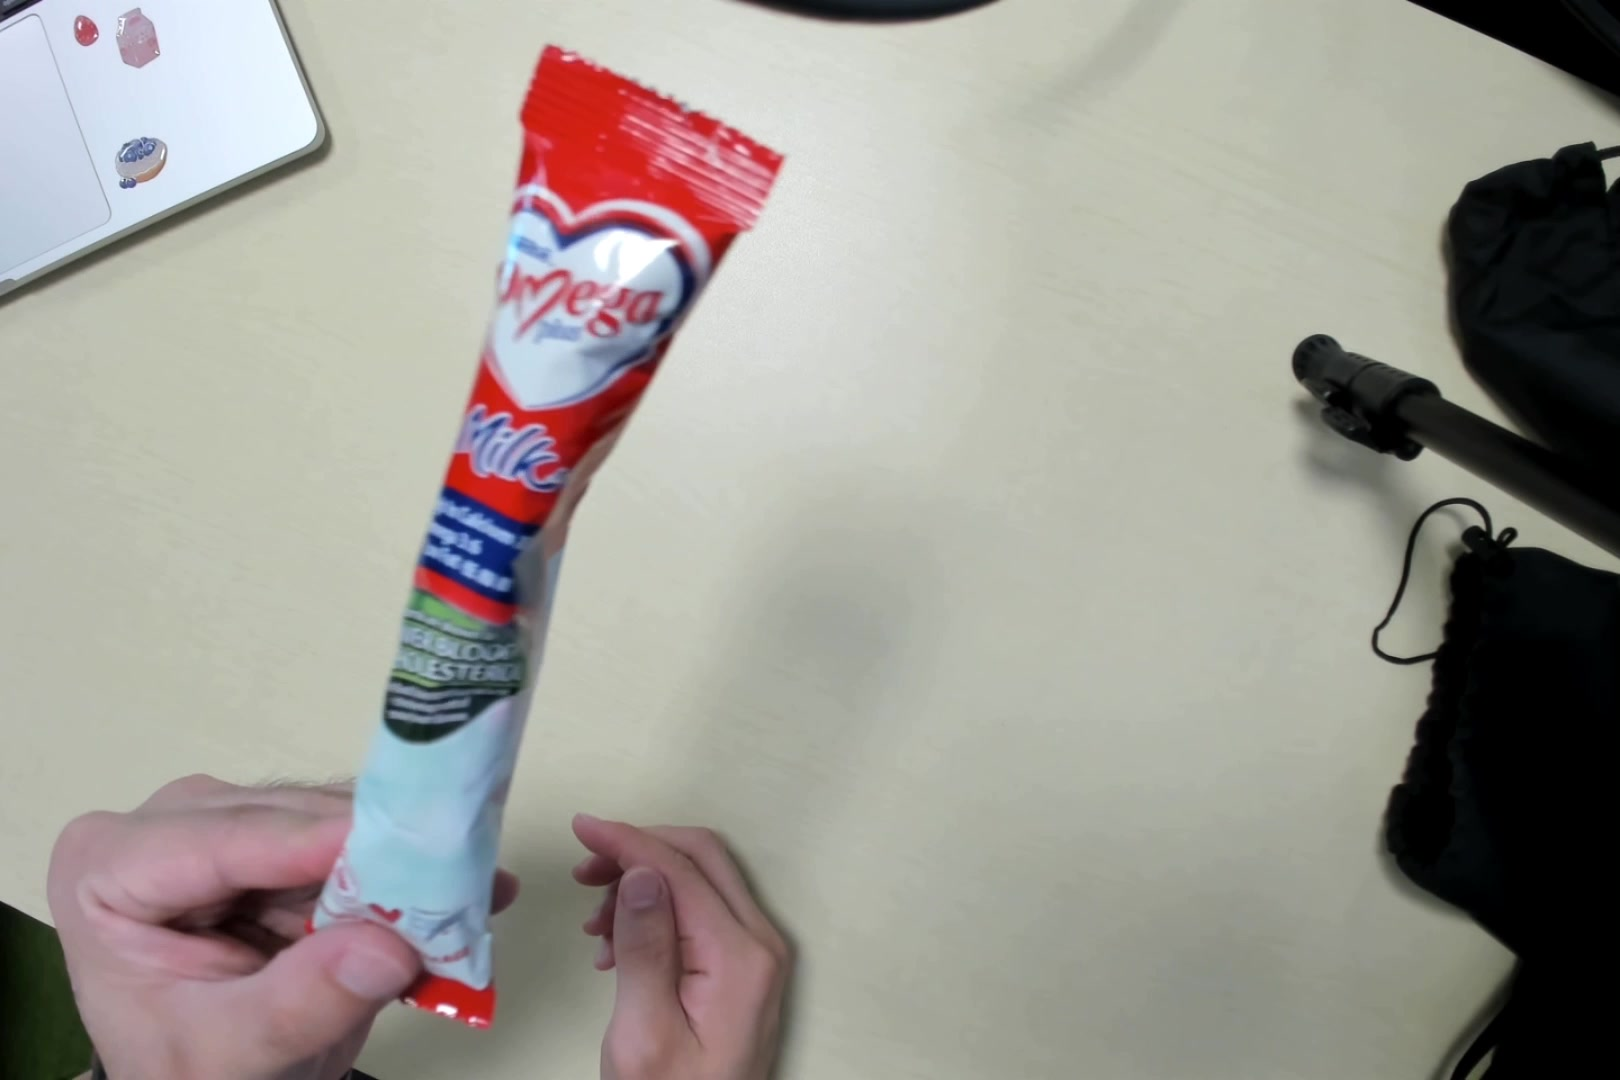MilkPowder_0-99g_Halal_NonHealthy: (327, 36, 740, 1029)
